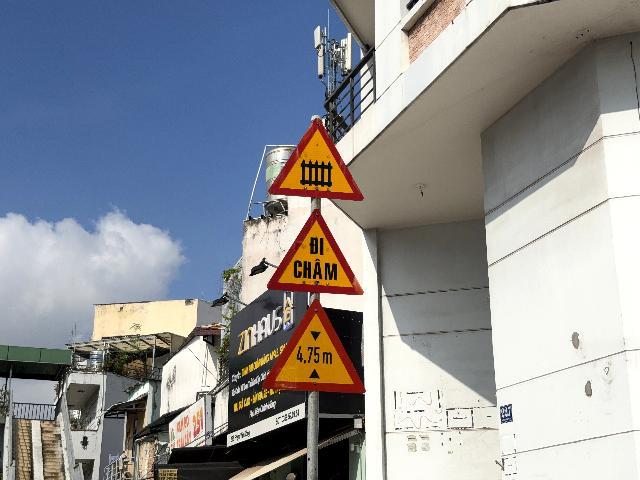chieu-cao-tinh-khong-thuc-te: (260, 297, 366, 393)
di-cham: (267, 208, 364, 295)
noi-giao-nhau-voi-duong-sat-co-rao-chan: (269, 118, 364, 201)
